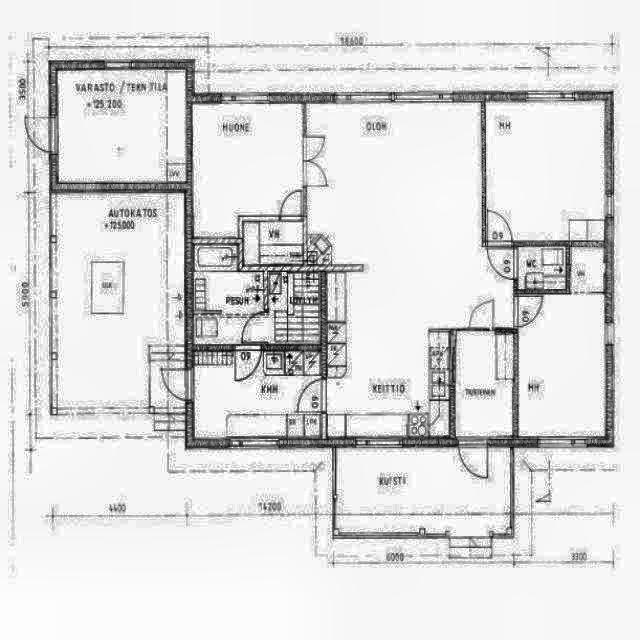room: (486, 101, 605, 240), (518, 247, 604, 436), (193, 104, 303, 238), (58, 70, 185, 181), (195, 352, 320, 438), (194, 244, 264, 344), (456, 331, 513, 437), (268, 272, 320, 344), (244, 222, 303, 264), (518, 247, 566, 289)
